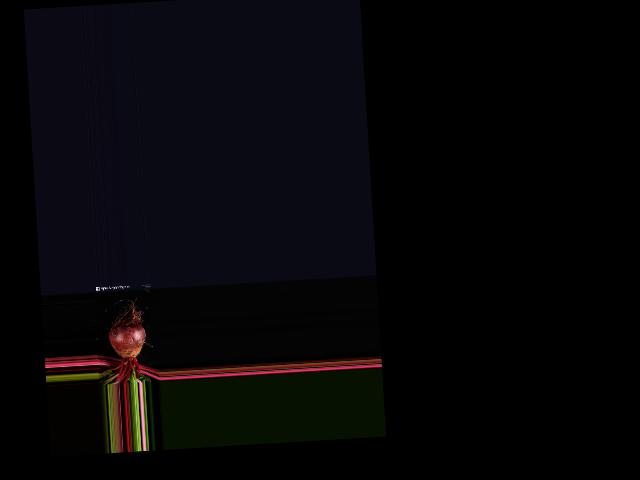beet: (93, 294, 149, 384)
